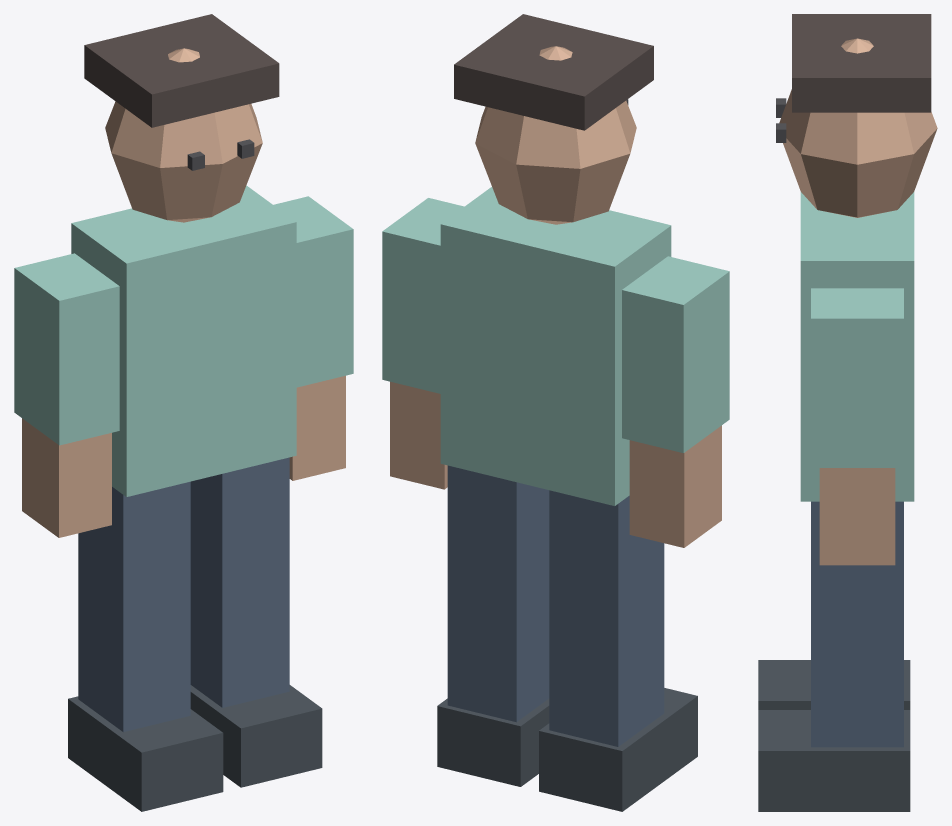
Rendered from pedestrian.glb.
The picture shows the model from 3 angles, left to right: view 1: azimuth 30°, elevation 25°; view 2: azimuth 150°, elevation 25°; view 3: azimuth 270°, elevation 25°; orthographic projection. The views are drawn at different scales.
Parts seen in each view (by area): view 1: torso, leg (×2), upper_arm (×2), shoe (×2), hair, head, lower_arm (×2); view 2: torso, leg (×2), upper_arm (×2), shoe (×2), hair, head, lower_arm (×2); view 3: leg, upper_arm, shoe (×2), torso, head, hair, lower_arm.
Part boxes in pixels (box(x1,y1,x2,y2)): torso: box(71, 185, 296, 496); leg (×2): box(78, 457, 289, 731); upper_arm (×2): box(14, 196, 353, 445); shoe (×2): box(68, 685, 322, 811); hair: box(84, 14, 279, 127); head: box(105, 48, 262, 222); lower_arm (×2): box(22, 375, 345, 537); torso: box(440, 187, 671, 505); leg (×2): box(447, 465, 664, 746); upper_arm (×2): box(382, 198, 729, 453); shoe (×2): box(437, 688, 697, 811); hair: box(454, 14, 653, 130); head: box(475, 46, 636, 224); lower_arm (×2): box(390, 381, 721, 547); leg: box(811, 501, 903, 747); upper_arm: box(811, 288, 903, 467); shoe (×2): box(758, 660, 910, 811); torso: box(800, 192, 914, 501); head: box(779, 38, 937, 217); hair: box(792, 14, 931, 112); lower_arm: box(819, 468, 895, 565).
Size of the model in its own units: 0.83 by 1.9 by 0.425.
